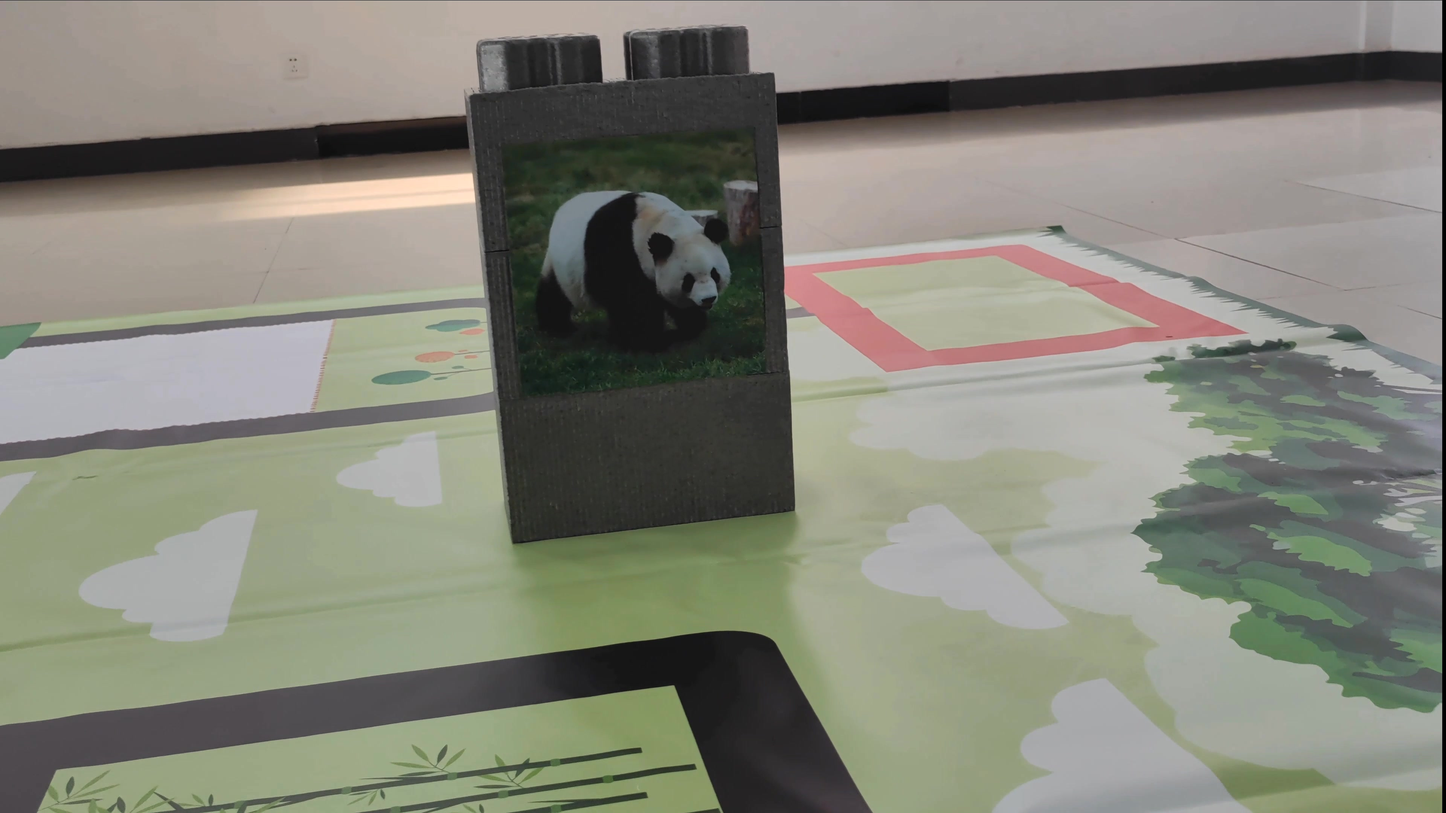panda: (505, 165, 737, 336)
